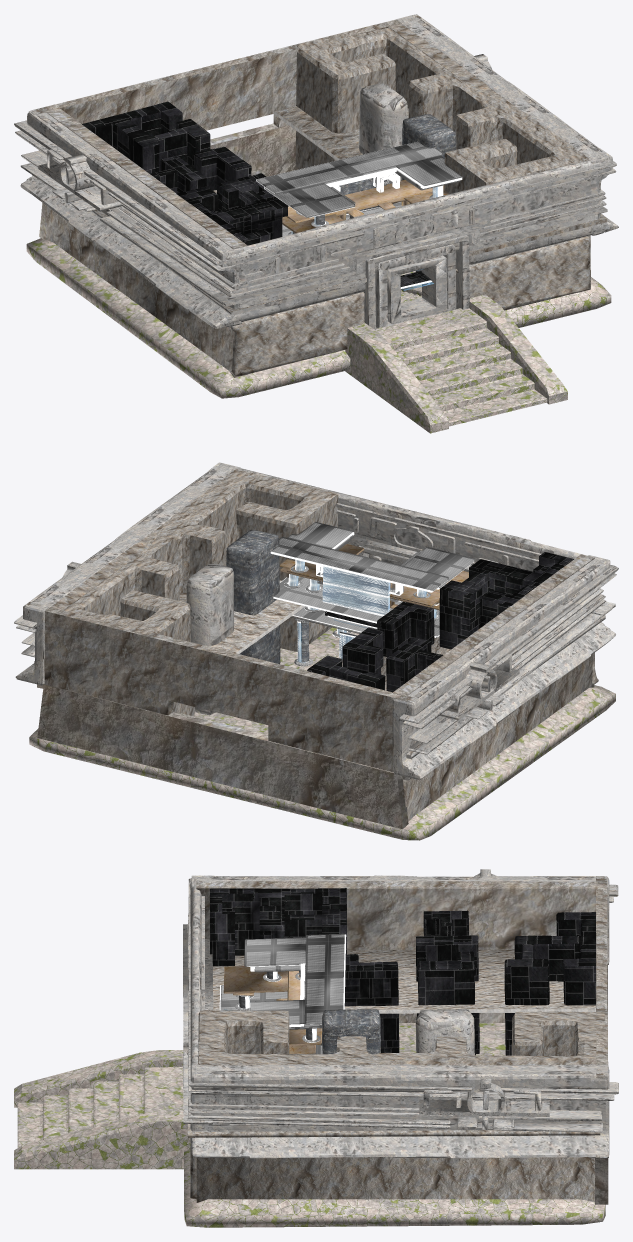
File: temple6.glb
3 views of the same model, one above another, from view 1: azimuth 30°, elevation 25°; view 2: azimuth 150°, elevation 25°; view 3: azimuth 270°, elevation 25° (orthographic). The views are drawn at different scales.
Parts seen in each view (by area): view 1: Selection.682, Selection.001, Cube.001, Selection #1.015, Selection.095, Selection #4.010, Selection #1.016, stairs.001, Selection.614, Selection #4.009, Selection.007, Selection.188 (+9 smaller); view 2: Selection #1.016, Selection.154, Selection.001, stairs.001, Selection.682, Selection #4.010, Selection.614, Selection #4.009, Selection.005, Selection #1.015, Selection.188, Selection.003 (+8 smaller); view 3: Selection.188, Selection #4.008, Cube.001, Selection.682, Selection #4.009, Selection #4.010, Selection.001, stairs.001, Selection.005, Selection.007, Selection.618, Selection.004 (+9 smaller).
Boxes of the visible parts, x1,y1,x2,y2 form: Selection.682: [14, 54, 616, 329]; Selection.001: [295, 27, 588, 193]; Cube.001: [345, 294, 567, 433]; Selection #1.015: [226, 156, 618, 323]; Selection.095: [230, 236, 590, 376]; Selection #4.010: [26, 206, 611, 398]; Selection #1.016: [29, 14, 421, 130]; stairs.001: [256, 141, 462, 290]; Selection.614: [20, 112, 244, 328]; Selection #4.009: [45, 107, 247, 377]; Selection.007: [82, 101, 210, 173]; Selection.188: [396, 14, 618, 235]; Selection #1.016: [15, 602, 418, 772]; Selection.154: [37, 684, 411, 829]; Selection.001: [64, 469, 338, 716]; stairs.001: [270, 522, 475, 666]; Selection.682: [14, 503, 618, 754]; Selection #4.010: [29, 626, 615, 840]; Selection.614: [392, 555, 615, 779]; Selection #4.009: [392, 554, 594, 821]; Selection.005: [439, 552, 573, 649]; Selection #1.015: [220, 464, 603, 571]; Selection.188: [16, 462, 240, 685]; Selection.003: [226, 529, 280, 664]; Selection.188: [191, 1064, 609, 1158]; Selection #4.008: [196, 1058, 596, 1202]; Cube.001: [14, 1050, 190, 1169]; Selection.682: [183, 869, 618, 1132]; Selection #4.009: [196, 881, 597, 1022]; Selection #4.010: [184, 1023, 605, 1227]; Selection.001: [198, 1010, 604, 1065]; stairs.001: [219, 933, 346, 1053]; Selection.005: [210, 888, 346, 966]; Selection.007: [504, 912, 595, 1055]; Selection.618: [213, 949, 595, 1013]; Selection.004: [344, 954, 399, 1052].
Bounding box in the file's own units: 9.9 × 3.45 × 11.52.
Materials: 13 (12 with a texture image).
